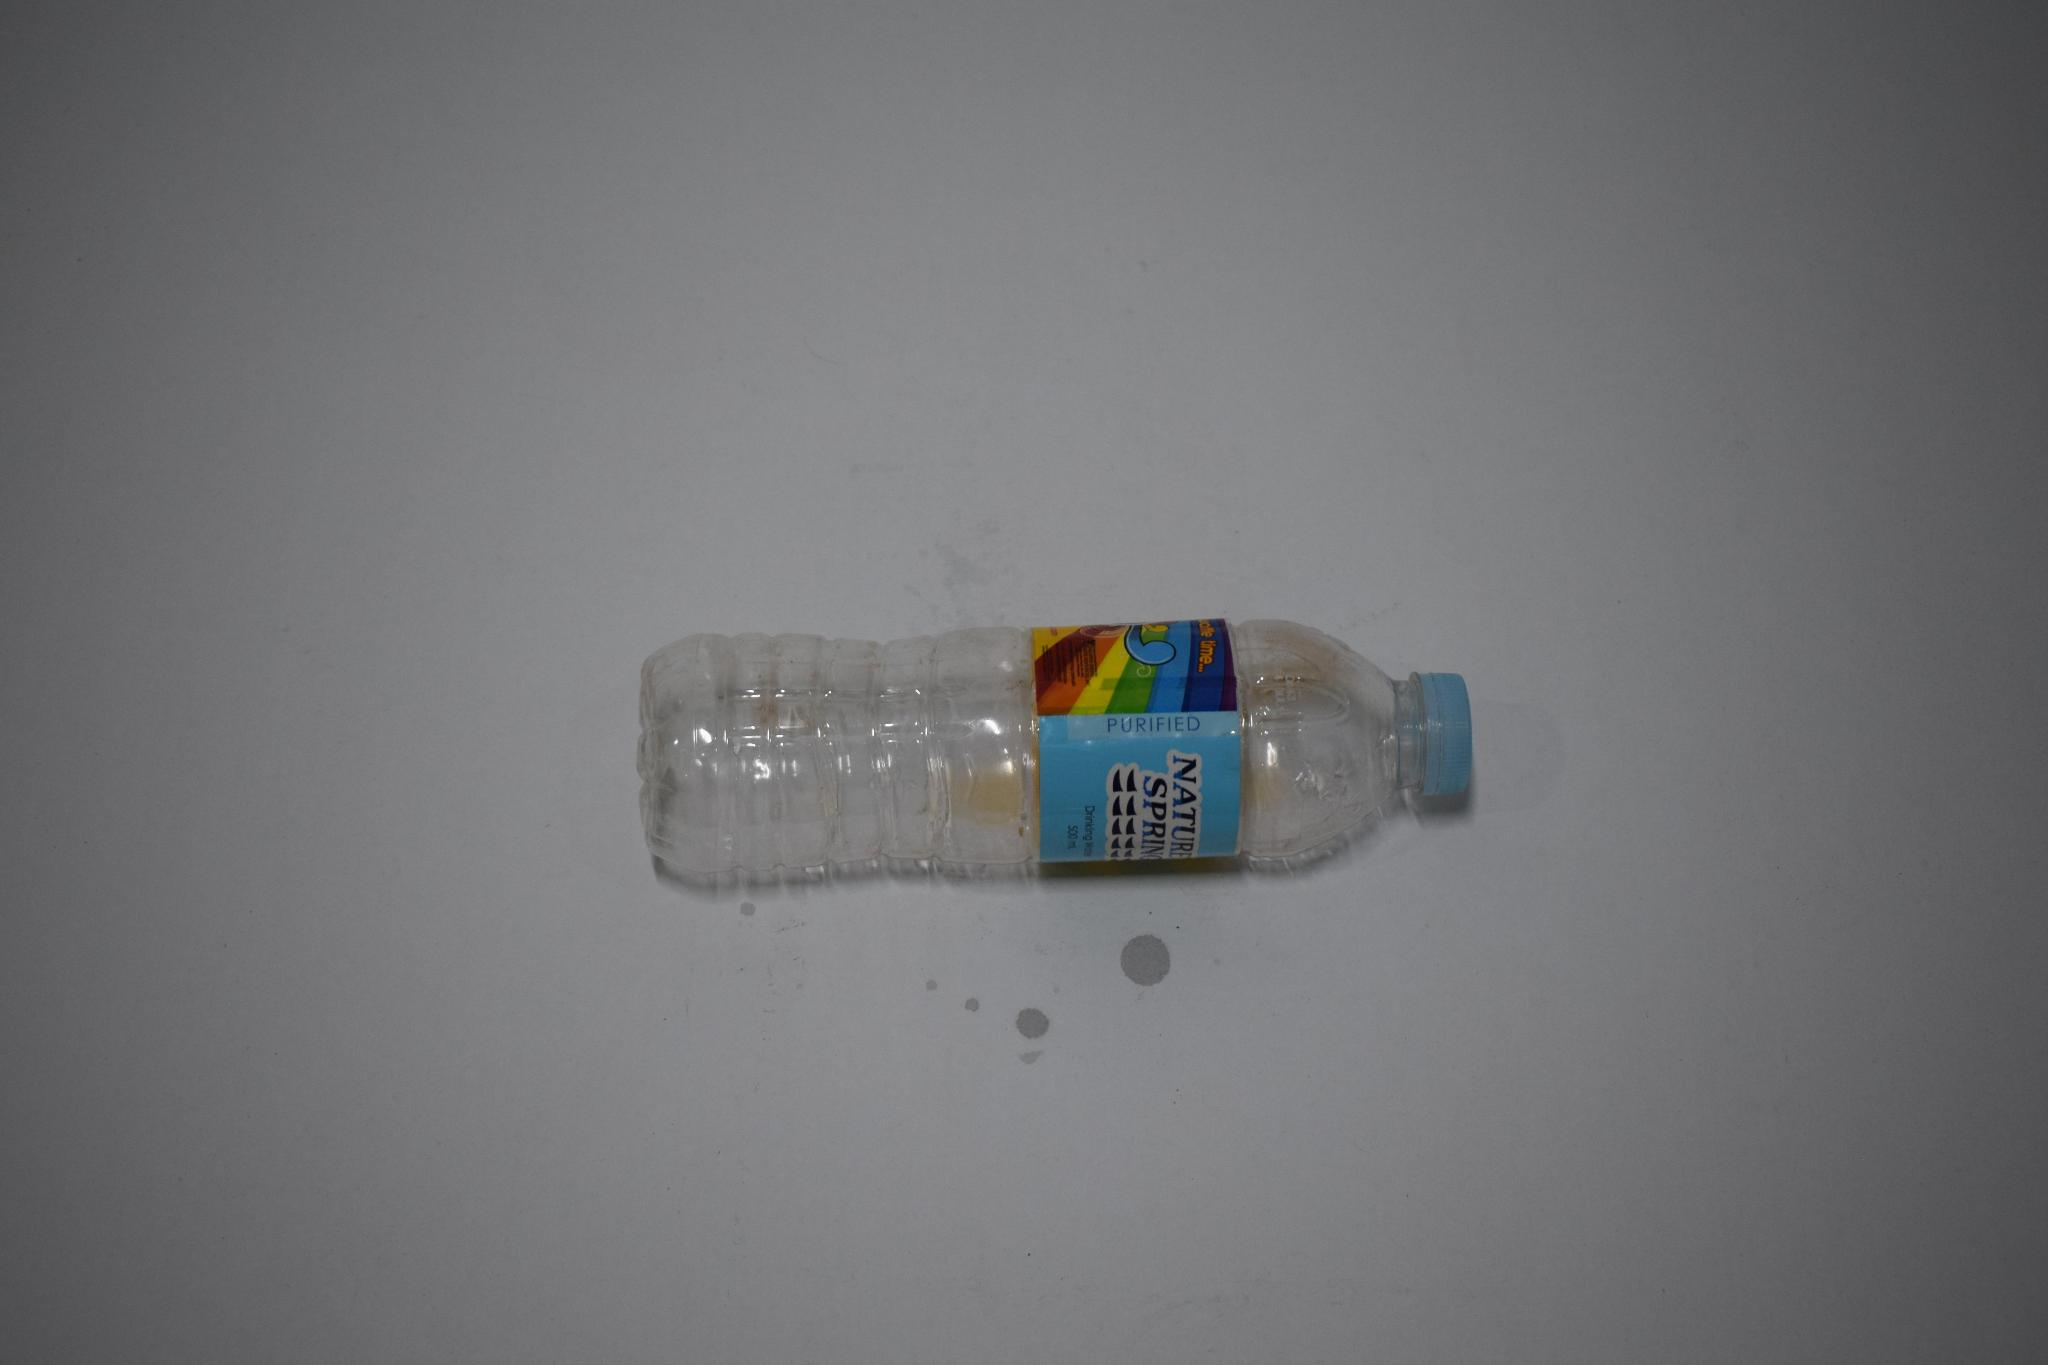bottle: (624, 614, 1483, 894)
